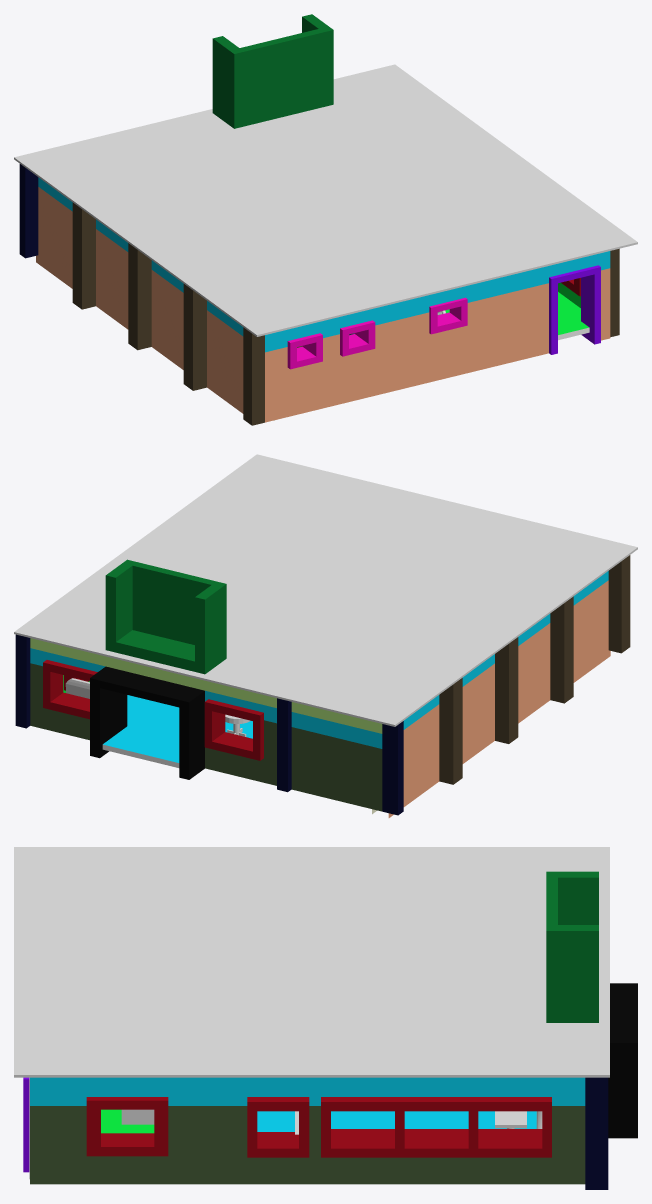
Rendered from Restaurant v4 no colors.fbx.
The picture shows the model from 3 angles, top to bottom: view 1: azimuth 30°, elevation 25°; view 2: azimuth 150°, elevation 25°; view 3: azimuth 270°, elevation 25°; orthographic projection. The views are drawn at different scales.
Parts seen in each view (by area): view 1: Roof, Rear wall, Right wall, Front wall, Left wall, Main floor; view 2: Roof, Front wall, Right wall, Main floor, Rear wall; view 3: Roof, Left wall, Front wall, Main floor, Rear wall, Scare Table, Kitchen table.001.
Part boxes in pixels (x1=…): Roof: x1=14, y1=64, x2=637, y2=336; Rear wall: x1=243, y1=251, x2=610, y2=425; Right wall: x1=36, y1=177, x2=243, y2=413; Front wall: x1=19, y1=14, x2=333, y2=258; Left wall: x1=558, y1=248, x2=619, y2=337; Main floor: x1=297, y1=292, x2=589, y2=347; Roof: x1=14, y1=454, x2=637, y2=726; Front wall: x1=15, y1=559, x2=403, y2=815; Right wall: x1=372, y1=571, x2=610, y2=817; Main floor: x1=102, y1=695, x2=252, y2=767; Rear wall: x1=608, y1=555, x2=630, y2=653; Roof: x1=14, y1=847, x2=609, y2=1077; Left wall: x1=30, y1=1077, x2=585, y2=1184; Front wall: x1=546, y1=871, x2=637, y2=1189; Main floor: x1=101, y1=1109, x2=536, y2=1133; Rear wall: x1=23, y1=1077, x2=29, y2=1179; Scare Table: x1=495, y1=1111, x2=526, y2=1128; Kitchen table.001: x1=121, y1=1109, x2=154, y2=1124.
Size of the model in its own units: 2145 by 955 by 2480.
